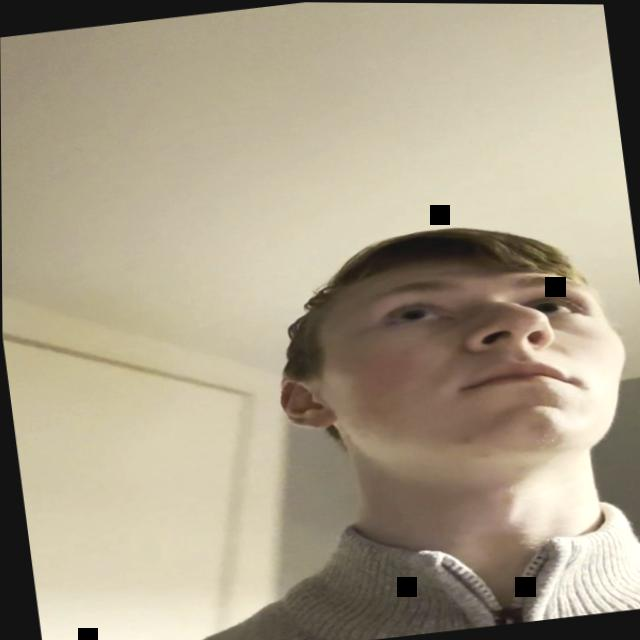NO-Mask: (281, 240, 640, 539)
